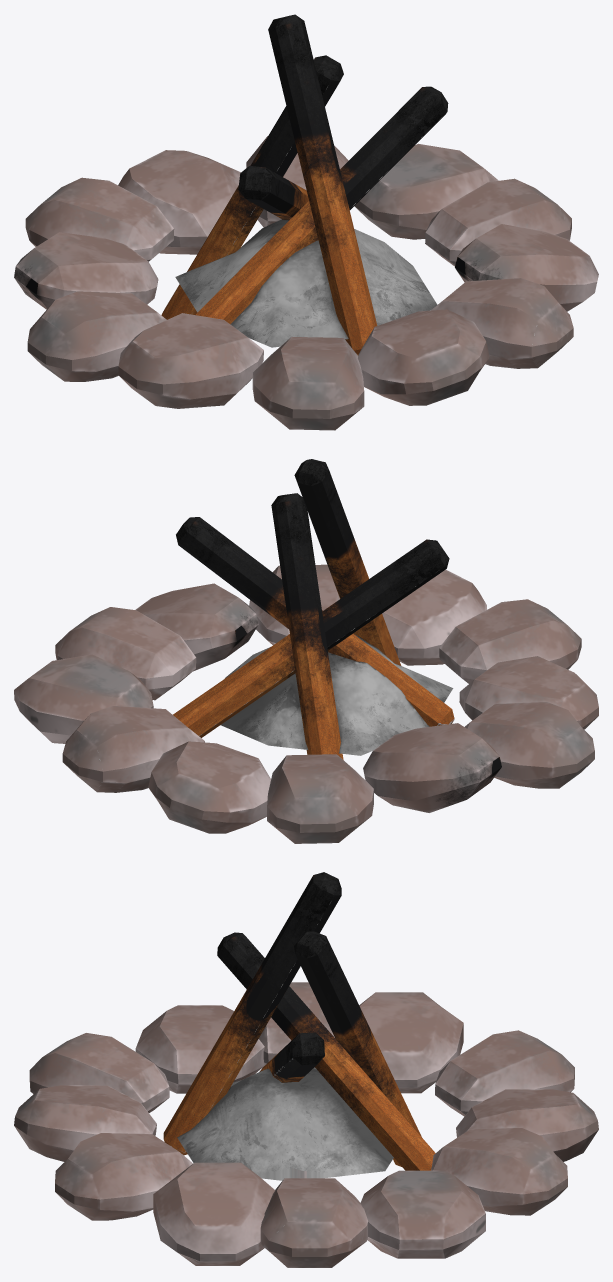
The model's file is feu.fbx.
3 renders of one model, top to bottom at view 1: azimuth 30°, elevation 25°; view 2: azimuth 150°, elevation 25°; view 3: azimuth 270°, elevation 25°, orthographic. The views are drawn at different scales.
Visible parts, largest first — view 1: feu; view 2: feu; view 3: feu.
Part boxes in pixels (left/top/right/bottom): feu: left=14, top=14, right=598, bottom=430; feu: left=14, top=459, right=598, bottom=843; feu: left=14, top=872, right=598, bottom=1267.
Bounding box in the file's own units: 147 × 87.05 × 144.
Materials: 1 (1 with a texture image).
